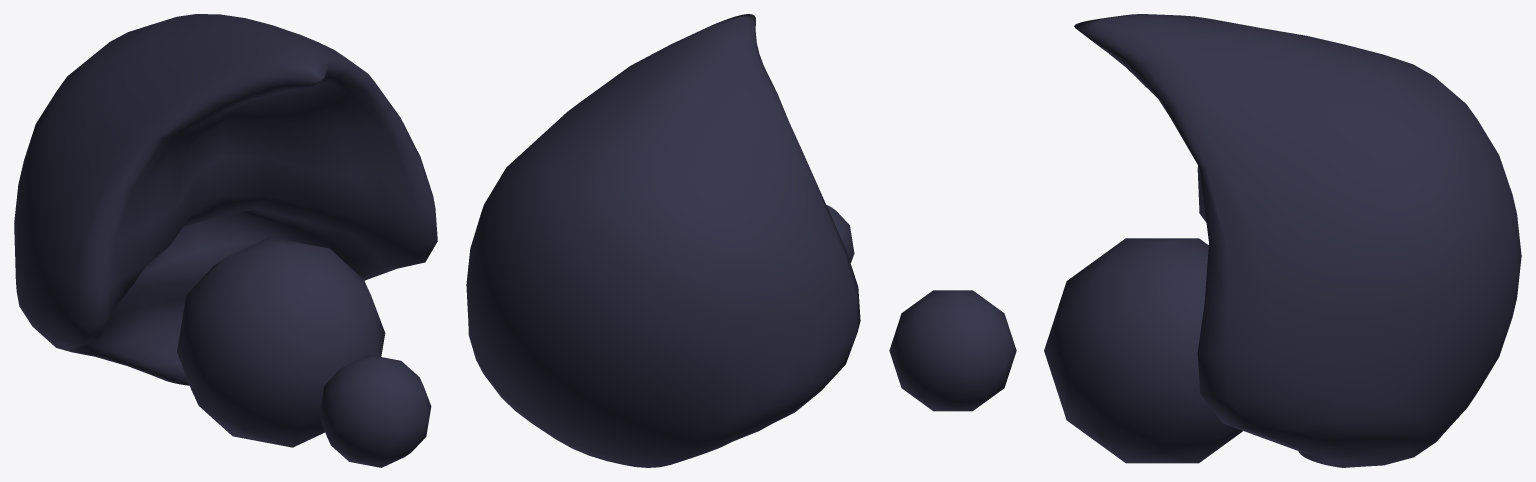
File: mouth-boi.fbx
3 renders of one model, left to right at view 1: azimuth 30°, elevation 25°; view 2: azimuth 150°, elevation 25°; view 3: azimuth 270°, elevation 25°, orthographic. The views are drawn at different scales.
Parts seen in each view (by area): view 1: Sphere, Icosphere, Icosphere.001; view 2: Sphere, Icosphere.001; view 3: Sphere, Icosphere, Icosphere.001.
Boxes of the visible parts, x1,y1,x2,y2 form: Sphere: (14,14,437,385); Icosphere: (177,237,385,447); Icosphere.001: (319,354,431,467); Sphere: (466,14,860,467); Icosphere.001: (826,205,854,262); Sphere: (1074,14,1521,467); Icosphere: (1044,238,1242,463); Icosphere.001: (889,290,1016,411).
Bounding box in the file's own units: 202 × 203 × 265.
